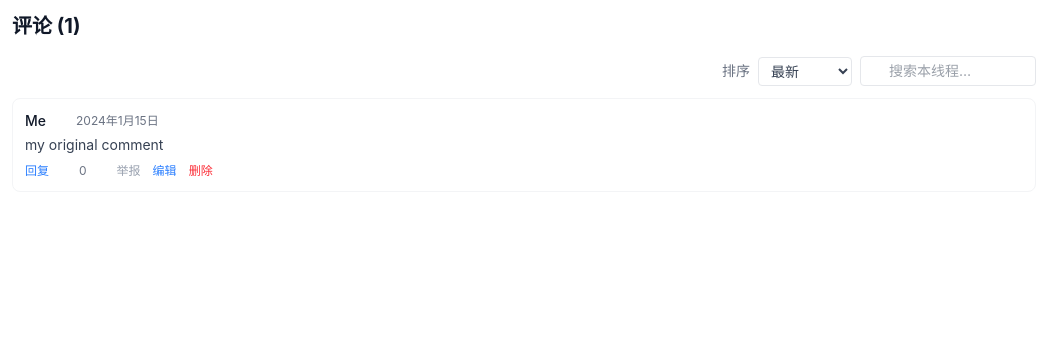
Test: CommentList › Comment edit/delete by author (DEC-096, TASK-160) › tells the author an edit re-entered moderation (awaiting review)
The width and height of the screenshot is (1048, 341).
Click the button with class "comment-edit" at (165, 171), box [153,163,177,179]
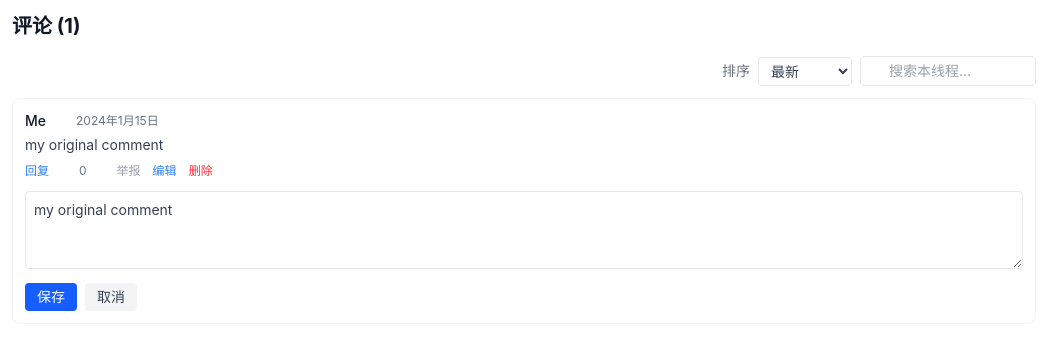
Replace the text in the text box named "编辑你的评论" with "my edited body" at (524, 230), box [25,191,1023,269]
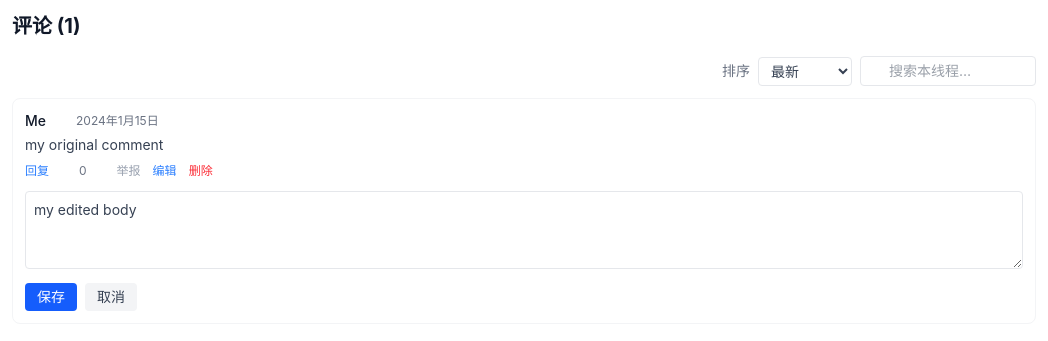
Click the button "保存" at (51, 297), box [25,283,77,311]
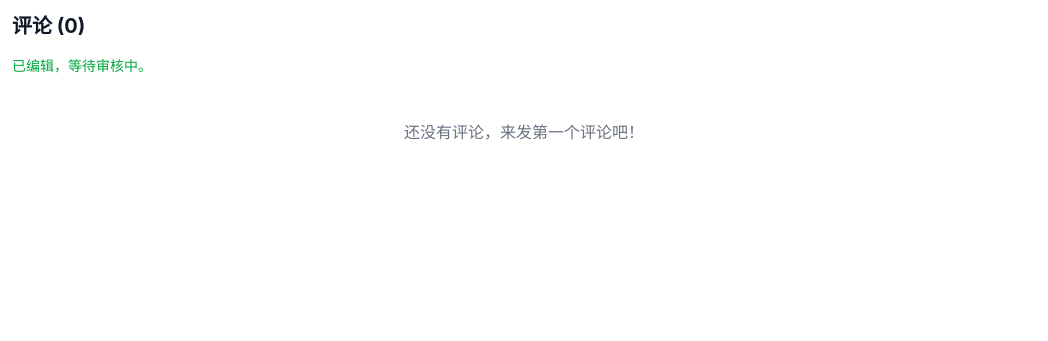
Check: the text "等待审核" is shown, box [12,57,152,74]
